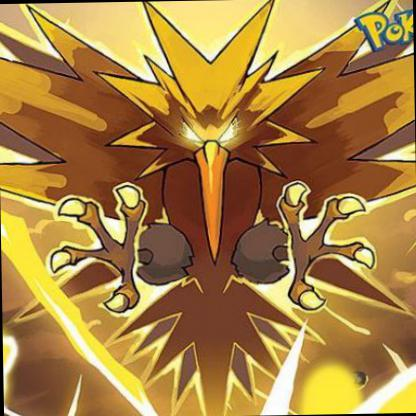Zapdos: (3, 1, 416, 416)
